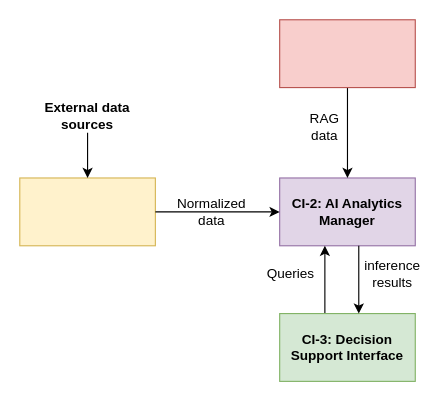
This 446x401 diagram has some shape labels left out. The shapes that lost their labels are listed below. From the top down, each one's centre as x and y in pixels, then its label:
(347,53): CI-5: Storage Manager
(87,211): CI-1: Data Processing Manager
